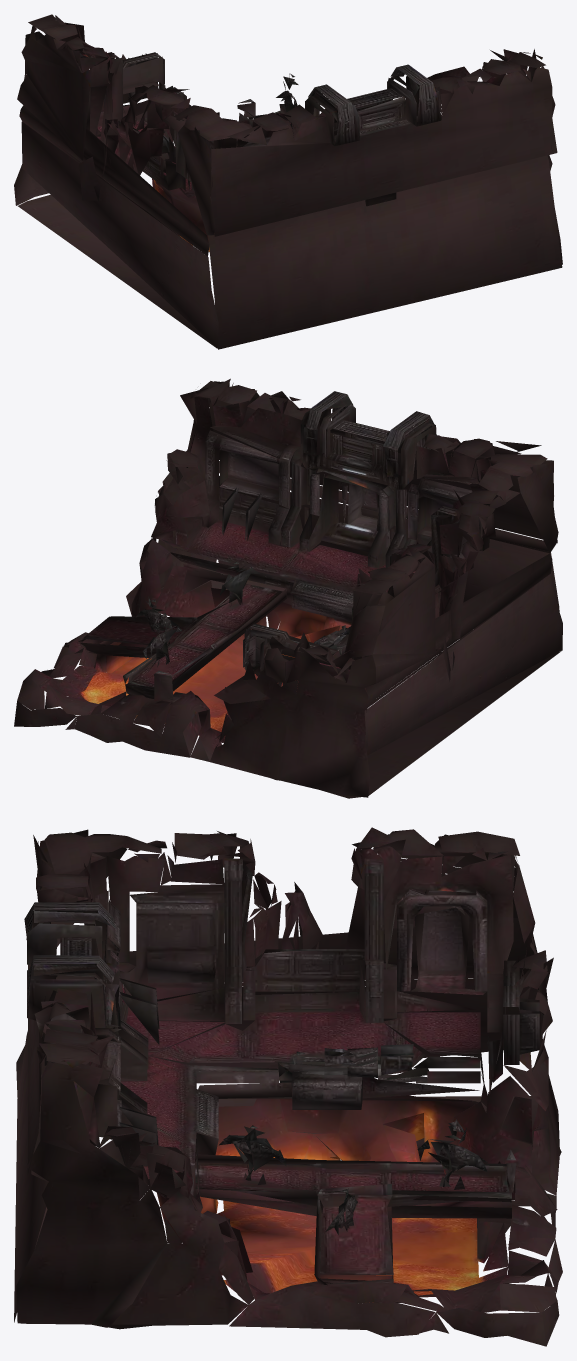
File: cqc-inferno-volcanic-v1-lod1.glb
The picture shows the model from 3 angles, top to bottom: view 1: azimuth 30°, elevation 25°; view 2: azimuth 150°, elevation 25°; view 3: azimuth 270°, elevation 25°; orthographic projection. The views are drawn at different scales.
Parts seen in each view (by area): view 1: cqc-inferno-volcanic-v1-lod1; view 2: cqc-inferno-volcanic-v1-lod1; view 3: cqc-inferno-volcanic-v1-lod1.
Part boxes in pixels (left/top/right/bottom): cqc-inferno-volcanic-v1-lod1: left=14, top=14, right=562, bottom=349; cqc-inferno-volcanic-v1-lod1: left=14, top=378, right=562, bottom=798; cqc-inferno-volcanic-v1-lod1: left=14, top=827, right=562, bottom=1346.
Bounding box in the file's own units: 192 × 110 × 183.
1 material, 1 textured.
